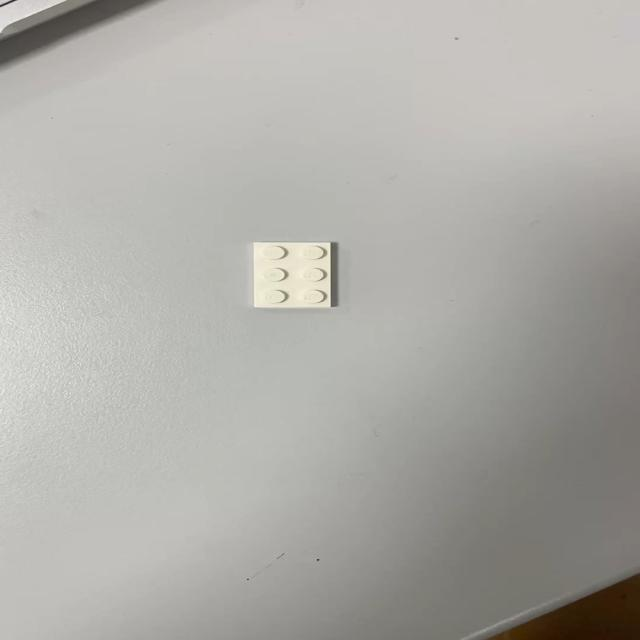C3x2x0: (251, 241, 333, 308)
